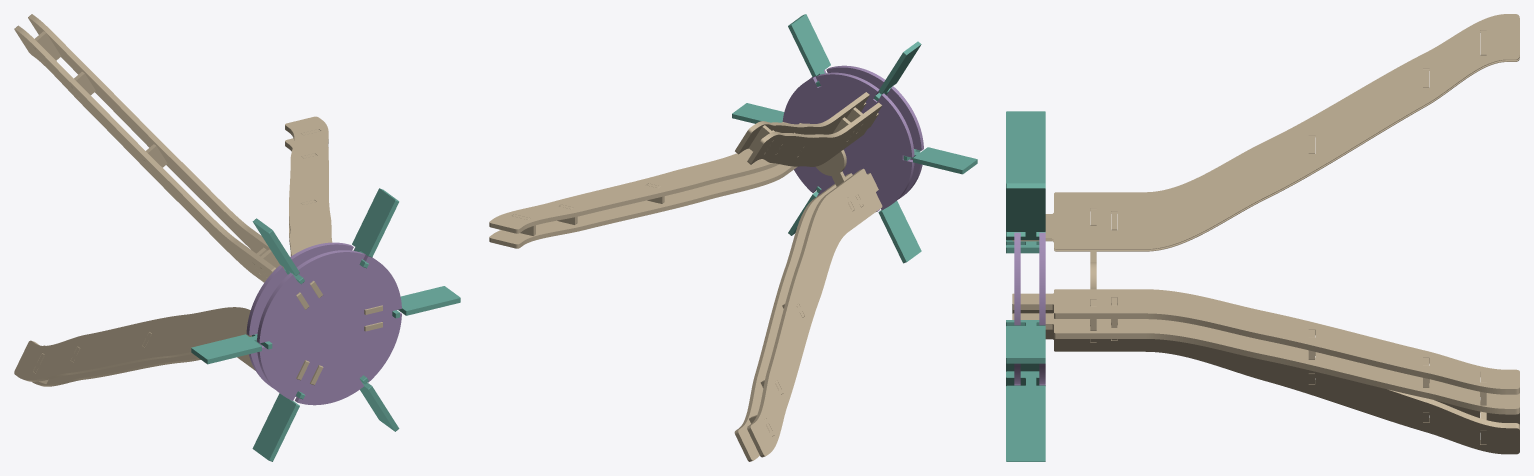
The model's file is B-baseline-27-BLOCKED.glb.
The picture shows the model from 3 angles, left to right: view 1: azimuth 30°, elevation 25°; view 2: azimuth 150°, elevation 25°; view 3: azimuth 270°, elevation 25°; orthographic projection. The views are drawn at different scales.
Parts seen in each view (by area): view 1: P04U, L3_P01_1, L1_P01_2, L2_P01_2, L2_P01_1, P04L, P05_2, P05_5, L3_P01_2, P05_4, P05_1, P05_3 (+1 smaller); view 2: L3_P01_1, P04L, L1_P01_2, L1_P01_1, L2_P01_2, L3_P01_2, P04U, L2_P01_1, P05_2, P05_5, P05_4, P03 (+2 smaller); view 3: L2_P01_1, L1_P01_2, L3_P01_2, L1_P01_1, P05_6, P05_3, P05_2, P05_1, L2_P01_2, P04L, P04U, L3_P01_1 (+1 smaller).
Boxes of the visible parts, left/top/right/bottom form: P04U: left=257, top=250, right=401, bottom=405; L3_P01_1: left=14, top=307, right=309, bottom=381; L1_P01_2: left=285, top=116, right=382, bottom=314; L2_P01_2: left=14, top=25, right=309, bottom=309; L2_P01_1: left=28, top=14, right=322, bottom=298; P04L: left=246, top=242, right=365, bottom=396; P05_2: left=352, top=188, right=399, bottom=268; P05_5: left=252, top=391, right=305, bottom=461; L3_P01_2: left=32, top=345, right=323, bottom=386; P05_4: left=191, top=334, right=272, bottom=364; P05_1: left=392, top=286, right=460, bottom=318; P05_3: left=252, top=218, right=304, bottom=284; L3_P01_1: left=747, top=168, right=882, bottom=457; P04L: left=782, top=72, right=914, bottom=211; L1_P01_2: left=489, top=122, right=803, bottom=233; L1_P01_1: left=489, top=164, right=797, bottom=248; L2_P01_2: left=747, top=102, right=882, bottom=166; L3_P01_2: left=734, top=173, right=852, bottom=461; P04U: left=810, top=65, right=923, bottom=199; L2_P01_1: left=735, top=92, right=869, bottom=154; P05_2: left=788, top=14, right=830, bottom=86; P05_5: left=878, top=201, right=921, bottom=263; P05_4: left=903, top=147, right=977, bottom=174; P03: left=816, top=107, right=863, bottom=207; L2_P01_1: left=1045, top=14, right=1519, bottom=249; L1_P01_2: left=1012, top=289, right=1519, bottom=394; L3_P01_2: left=1045, top=323, right=1519, bottom=454; L1_P01_1: left=1012, top=313, right=1519, bottom=414; P05_6: left=1006, top=371, right=1045, bottom=461; P05_3: left=1006, top=111, right=1045, bottom=183; P05_2: left=1006, top=183, right=1045, bottom=240; P05_1: left=1006, top=320, right=1045, bottom=363; L2_P01_2: left=1012, top=31, right=1519, bottom=251; P04L: left=1039, top=232, right=1045, bottom=385; P04U: left=1014, top=232, right=1020, bottom=385; L3_P01_1: left=1012, top=303, right=1519, bottom=432.
Bounding box in the file's own units: 0.431 × 0.4673 × 0.494.
